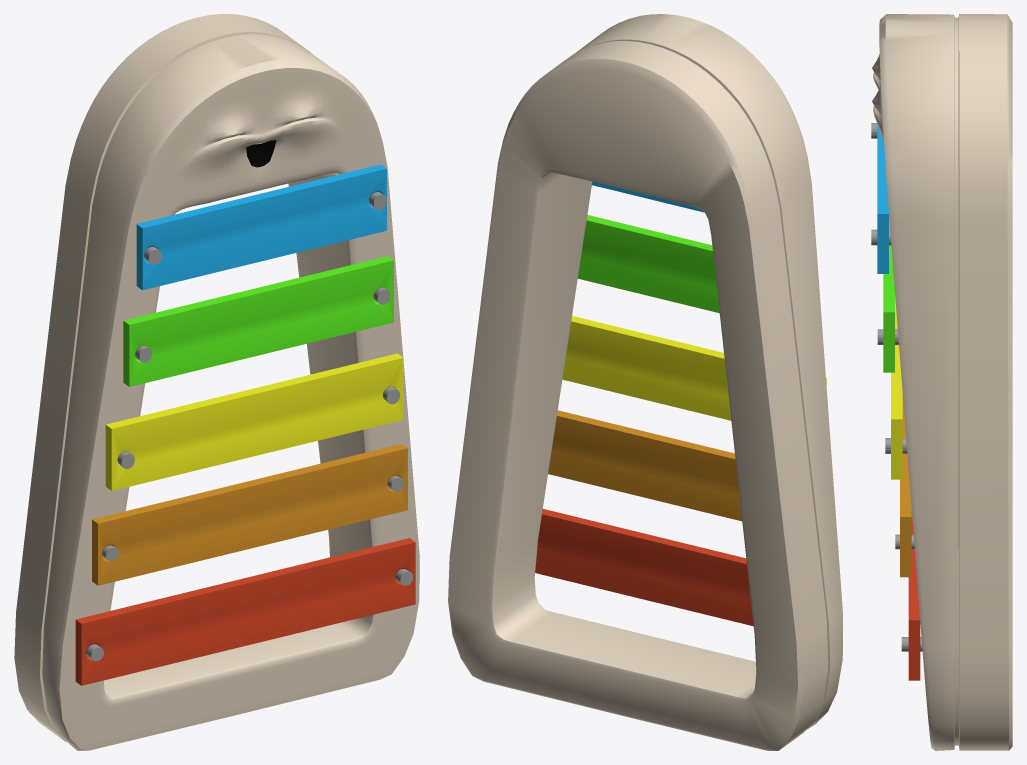
The model's file is xylophone_4.dae.
The picture shows the model from 3 angles, left to right: view 1: azimuth 30°, elevation 25°; view 2: azimuth 150°, elevation 25°; view 3: azimuth 270°, elevation 25°; orthographic projection. The views are drawn at different scales.
Visible parts, largest first — view 1: CylinderFBXASC046013, CubeFBXASC046014, CubeFBXASC046013, CubeFBXASC046012, CubeFBXASC046022, CubeFBXASC046010; view 2: CylinderFBXASC046013, CubeFBXASC046014, CubeFBXASC046013, CubeFBXASC046012, CubeFBXASC046022; view 3: CylinderFBXASC046013, CubeFBXASC046012, CubeFBXASC046010, CubeFBXASC046014, CubeFBXASC046013, CubeFBXASC046022.
Part boxes in pixels (x1,y1,x2,y2): CylinderFBXASC046013: [14, 14, 419, 750]; CubeFBXASC046014: [75, 538, 415, 685]; CubeFBXASC046013: [92, 444, 407, 585]; CubeFBXASC046012: [105, 353, 403, 490]; CubeFBXASC046022: [123, 256, 393, 386]; CubeFBXASC046010: [136, 164, 386, 290]; CylinderFBXASC046013: [448, 14, 842, 750]; CubeFBXASC046014: [535, 509, 753, 626]; CubeFBXASC046013: [548, 410, 742, 521]; CubeFBXASC046012: [562, 316, 826, 420]; CubeFBXASC046022: [577, 215, 719, 313]; CylinderFBXASC046013: [872, 14, 1012, 750]; CubeFBXASC046012: [891, 295, 902, 479]; CubeFBXASC046010: [877, 124, 888, 273]; CubeFBXASC046014: [908, 512, 920, 680]; CubeFBXASC046013: [900, 395, 911, 577]; CubeFBXASC046022: [883, 217, 894, 372].
Size of the model in its own units: 283 by 497 by 97.8.
1 material, 1 textured.
